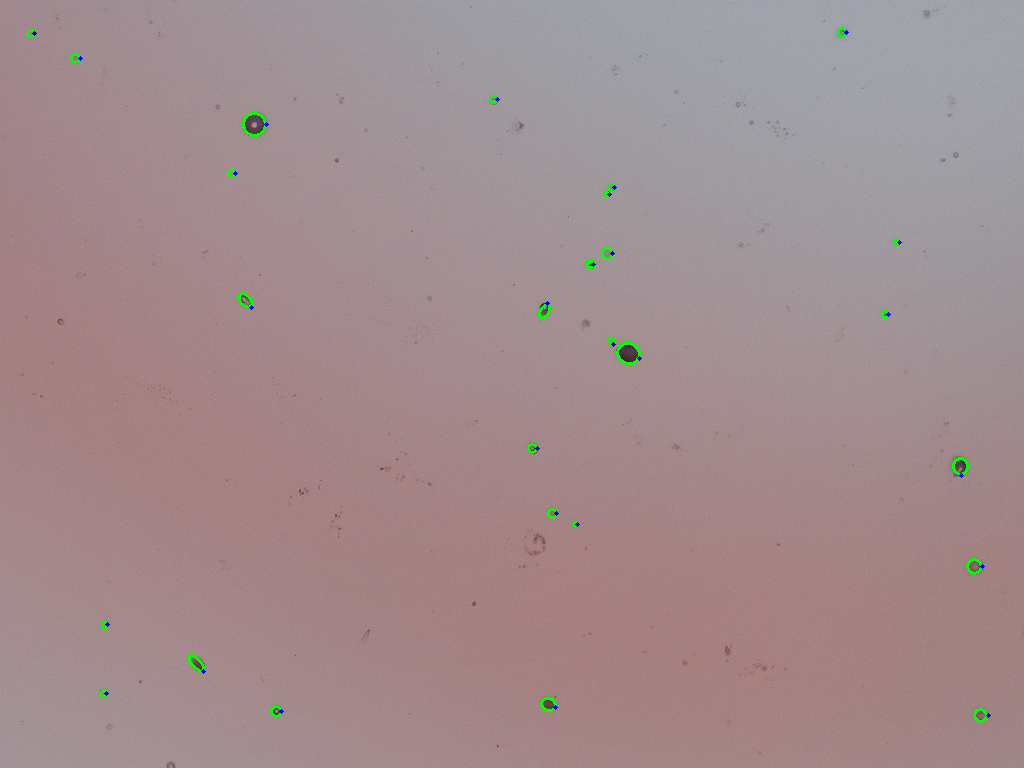circle: (242, 112, 266, 136), (967, 559, 982, 574), (602, 248, 612, 259), (271, 706, 281, 716), (528, 443, 537, 453), (71, 54, 80, 63), (838, 28, 846, 37), (489, 95, 497, 103), (548, 509, 556, 517), (99, 689, 106, 696), (587, 260, 593, 267), (101, 621, 107, 628), (28, 29, 34, 36), (608, 184, 614, 190), (229, 170, 235, 176), (893, 239, 899, 245), (882, 311, 888, 317), (604, 191, 609, 196), (573, 522, 577, 526)
ellipse: (953, 457, 968, 476), (238, 293, 252, 308), (540, 698, 556, 710), (973, 709, 988, 720)
